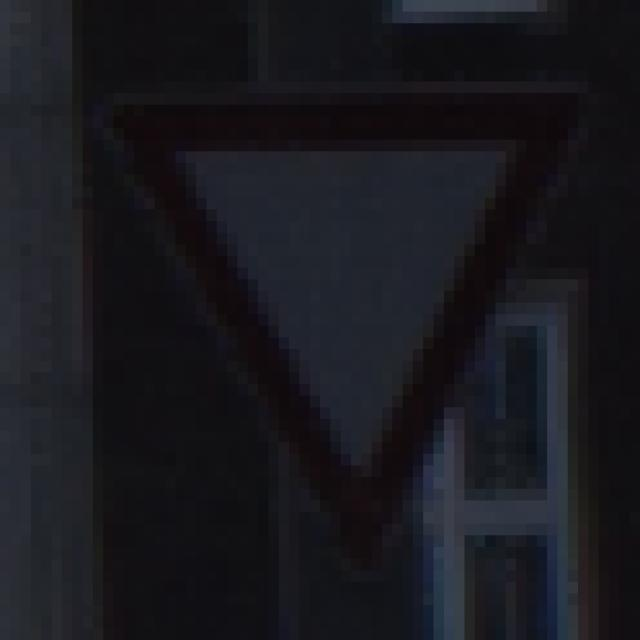Give Way: (63, 71, 589, 583)
